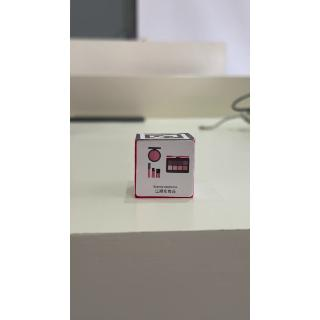Expired_Cosmetic: (136, 142, 196, 200)
